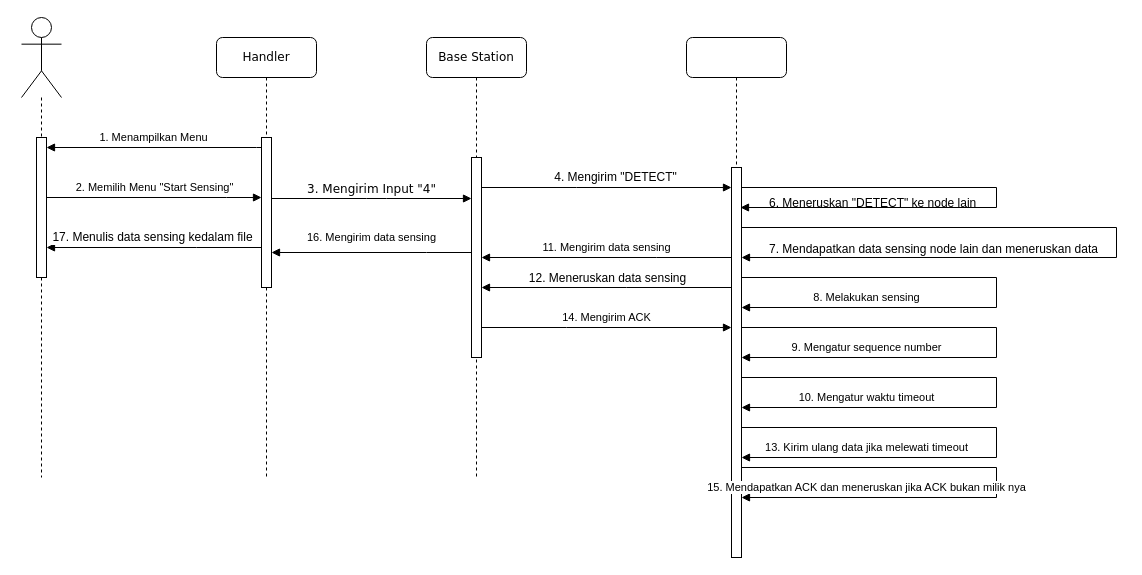
The diagram is 1142 pixels wide and 575 high, and some of its shapes have lost their labels. The box of each missing label's shape, as (x1, y1, x2, y2) in pixels:
Node Sensor: (686, 36, 786, 558)
Penguna: (20, 16, 62, 98)
